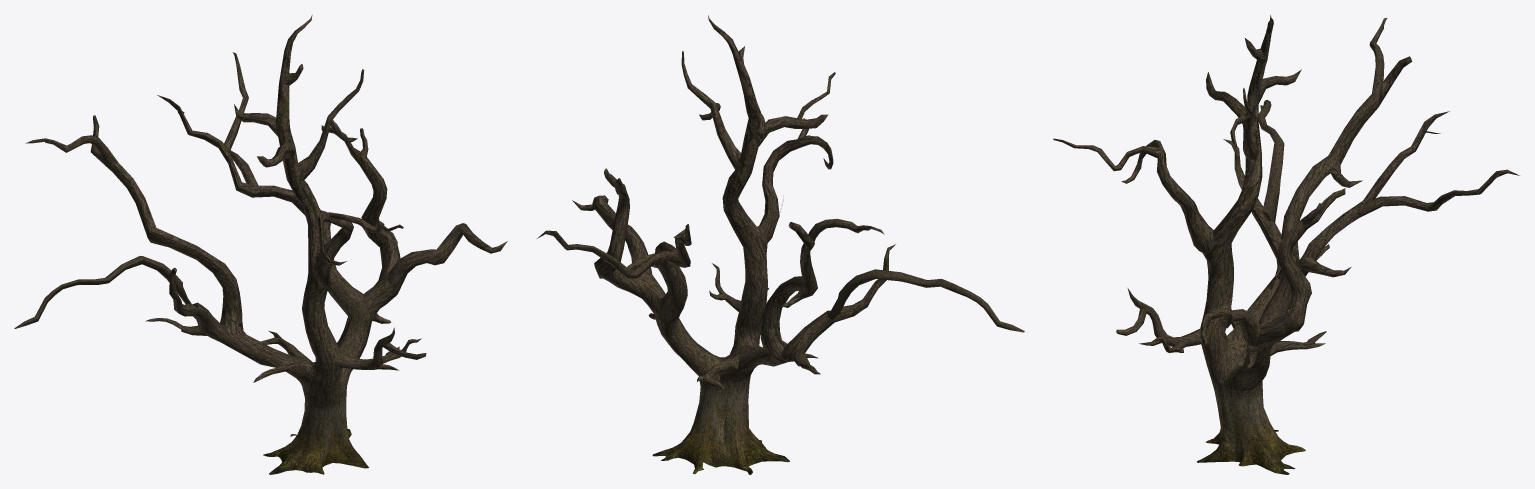
File: oaktree.obj
The picture shows the model from 3 angles, left to right: view 1: azimuth 30°, elevation 25°; view 2: azimuth 150°, elevation 25°; view 3: azimuth 270°, elevation 25°; orthographic projection. The views are drawn at different scales.
Visible parts, largest first — view 1: tree_oak:Mesh; view 2: tree_oak:Mesh; view 3: tree_oak:Mesh.
Part boxes in pixels (bbox=[...]): tree_oak:Mesh: bbox=[14, 15, 507, 474]; tree_oak:Mesh: bbox=[537, 15, 1024, 474]; tree_oak:Mesh: bbox=[1053, 15, 1519, 474].
Size of the model in its own units: 15.72 by 13.94 by 13.46.
Materials: 3 (3 with a texture image).
